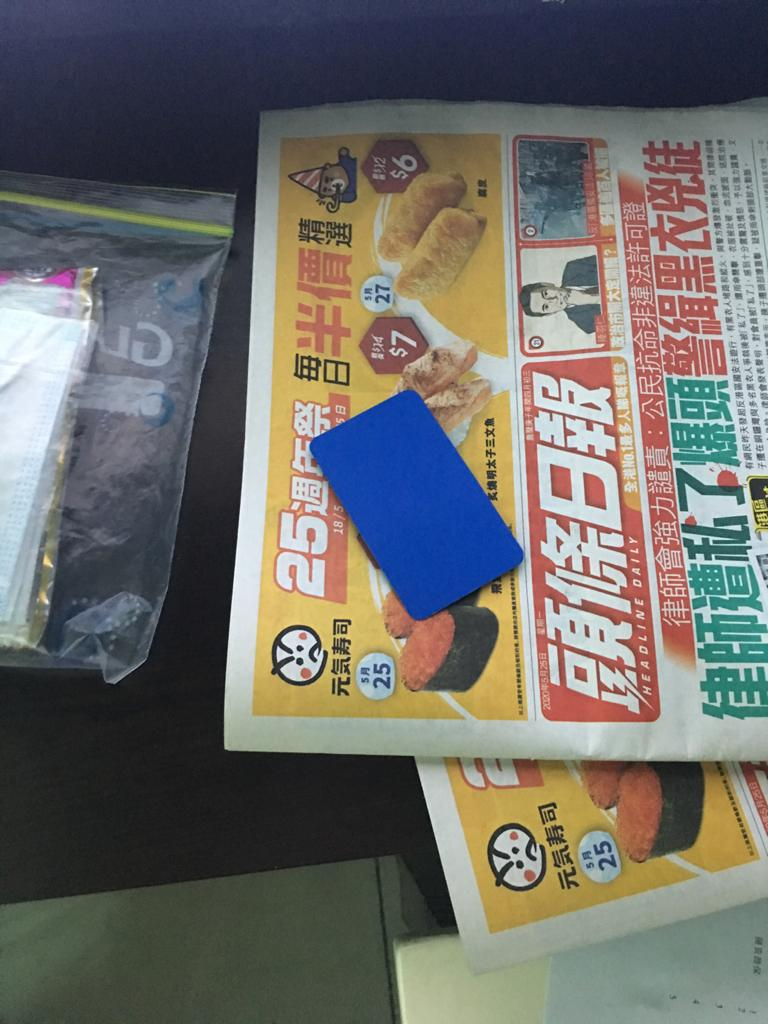blue: (296, 376, 538, 629)
